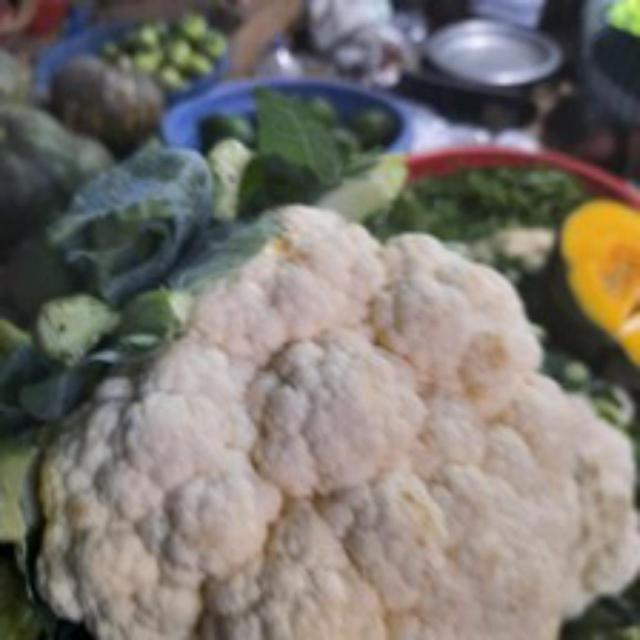cauliflower: (48, 186, 640, 640)
